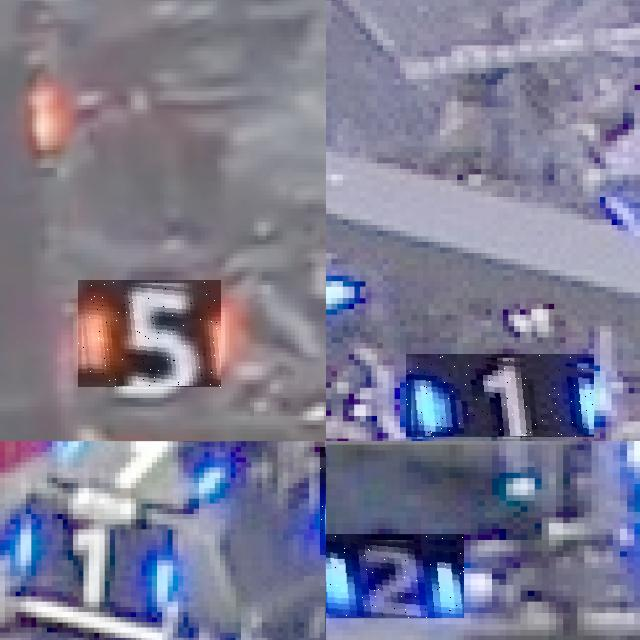B1: (406, 354, 594, 438), (15, 519, 184, 612), (41, 441, 241, 503)
B2: (326, 534, 463, 618)
R5: (78, 281, 221, 388)
